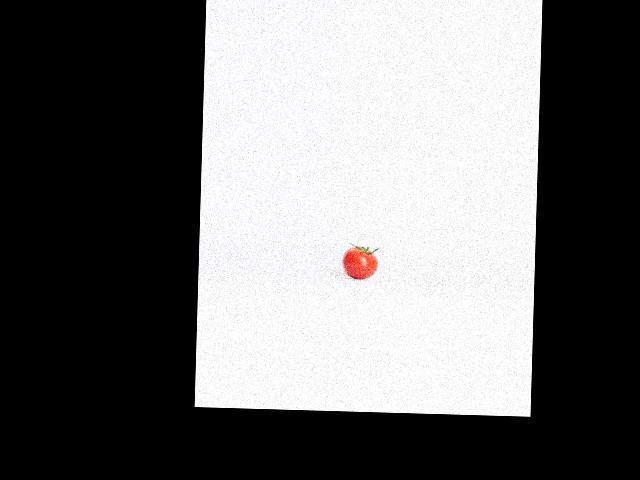tomato: (341, 247, 378, 279)
